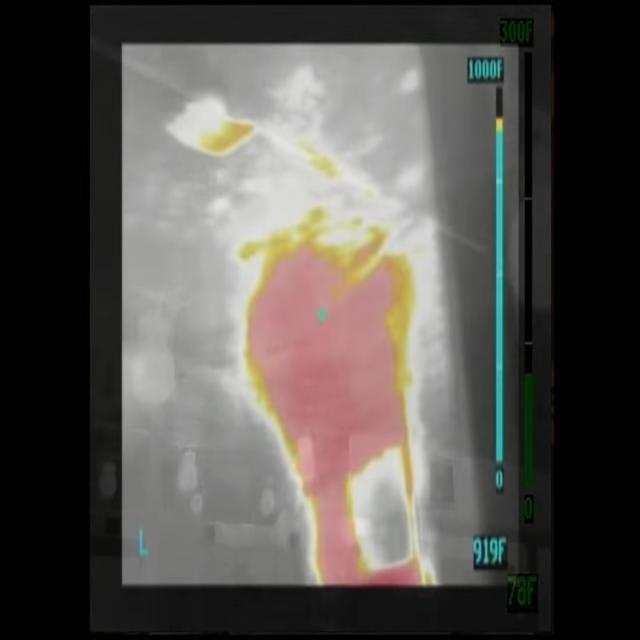fire: (239, 211, 439, 587)
